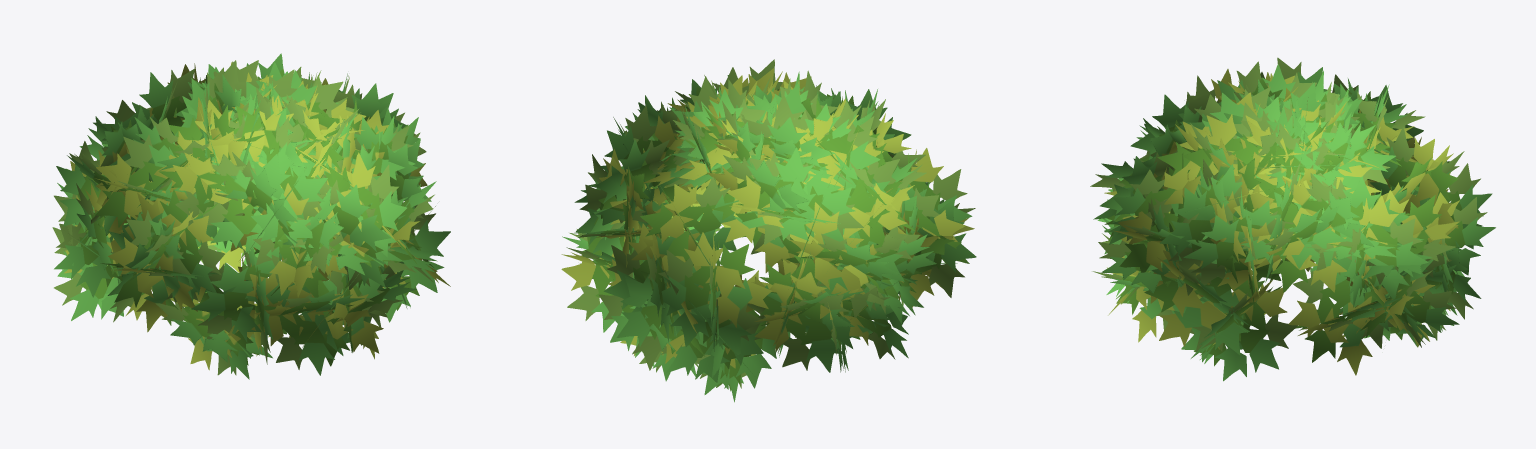
Rendered from Bush.fbx.
The picture shows the model from 3 angles, left to right: view 1: azimuth 30°, elevation 25°; view 2: azimuth 150°, elevation 25°; view 3: azimuth 270°, elevation 25°; orthographic projection. The views are drawn at different scales.
Visible parts, largest first — view 1: bush; view 2: bush; view 3: bush.
Part boxes in pixels (x1=…): bush: x1=52, y1=53, x2=450, y2=379; bush: x1=561, y1=59, x2=976, y2=402; bush: x1=1090, y1=57, x2=1495, y2=381.
Bounding box in the file's own units: 2.37 × 1.86 × 2.39.
